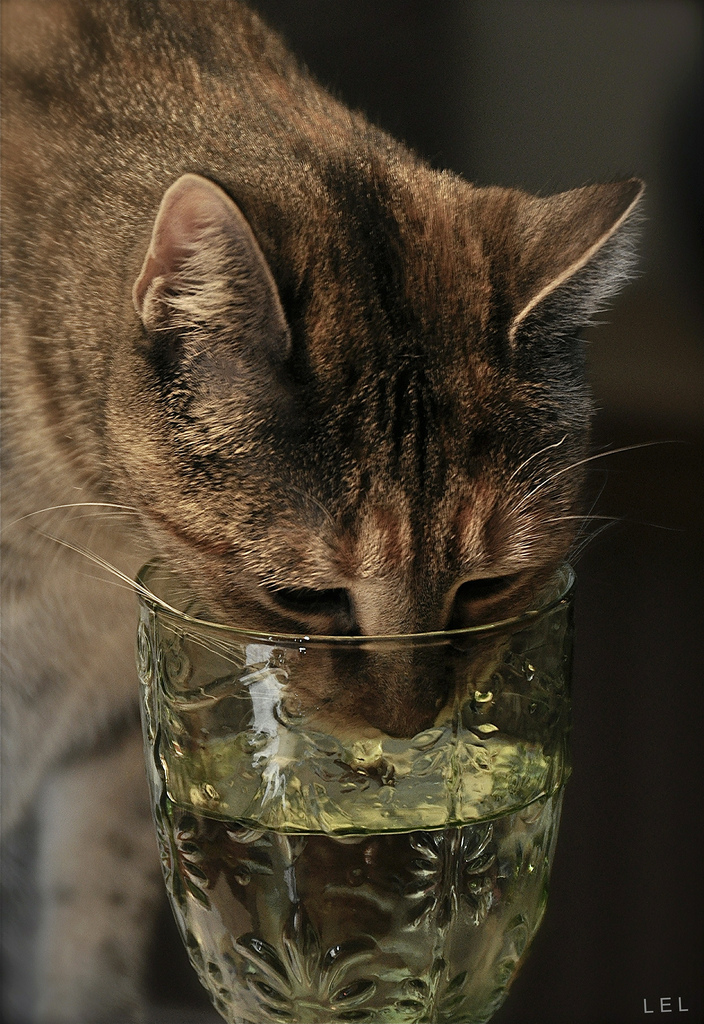glass of water: (138, 587, 554, 1024)
